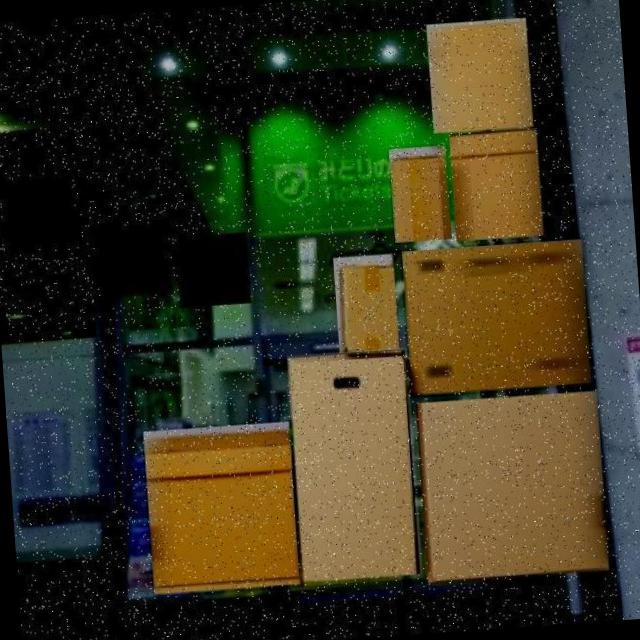box: (412, 388, 614, 586), (286, 347, 423, 586), (399, 236, 596, 399), (141, 420, 304, 598), (424, 15, 537, 136), (449, 127, 547, 244), (332, 253, 401, 354), (388, 143, 454, 244)
